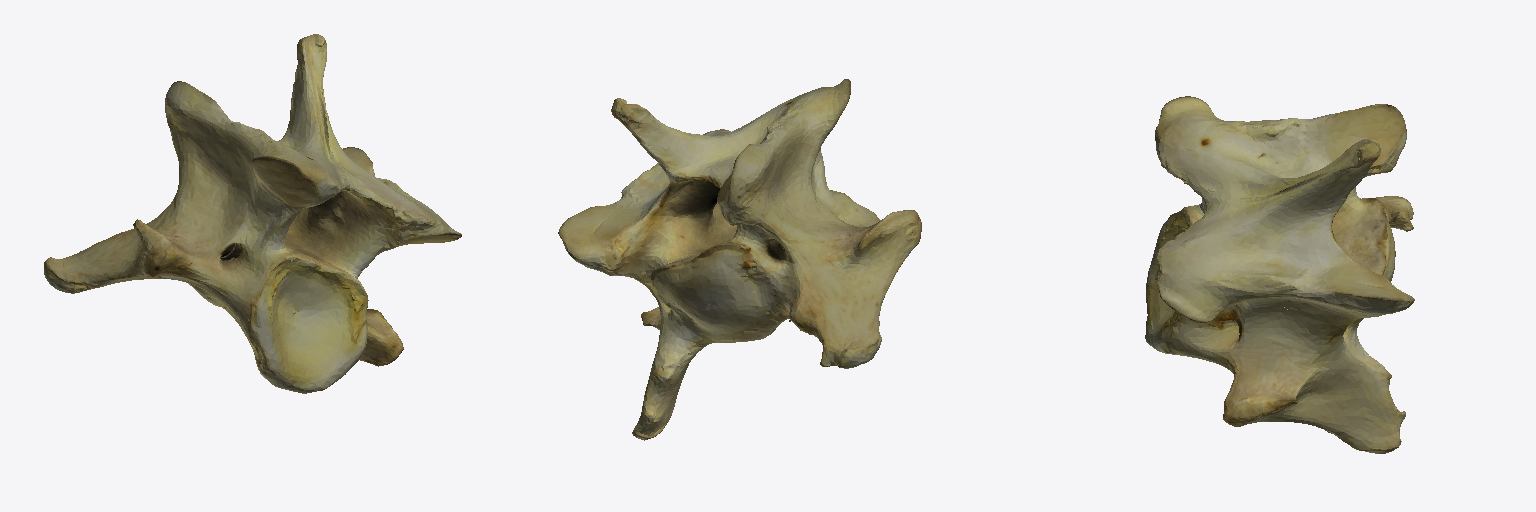
3 views of the same model, side by side, from view 1: azimuth 30°, elevation 25°; view 2: azimuth 150°, elevation 25°; view 3: azimuth 270°, elevation 25° (orthographic).
Bounding box in the file's own units: 53.56 × 54.2 × 40.49.
Materials: 1 (1 with a texture image).